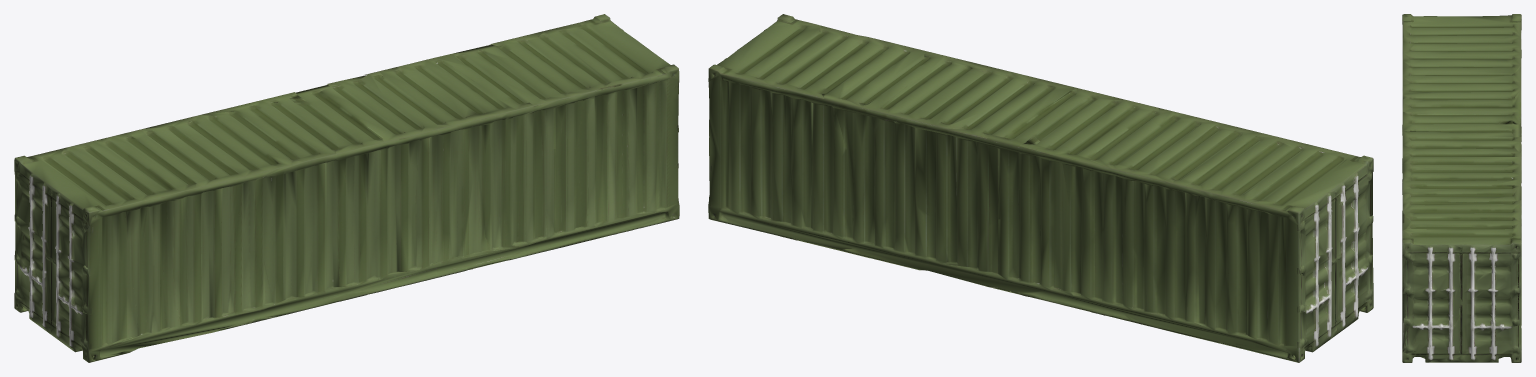
Rendered from Meshy_AI_Olive_Drab_Shipping_C_0516073254_texture.fbx.
3 views of the same model, side by side, from view 1: azimuth 30°, elevation 25°; view 2: azimuth 150°, elevation 25°; view 3: azimuth 270°, elevation 25° (orthographic). The views are drawn at different scales.
Visible parts, largest first — view 1: Mesh_0; view 2: Mesh_0; view 3: Mesh_0.
Part boxes in pixels (<box>): Mesh_0: <box>14,14,679,362</box>; Mesh_0: <box>708,14,1373,362</box>; Mesh_0: <box>1402,14,1521,362</box>.
Bounding box in the file's own units: 191 × 46.46 × 41.77.
Materials: 1 (1 with a texture image).
